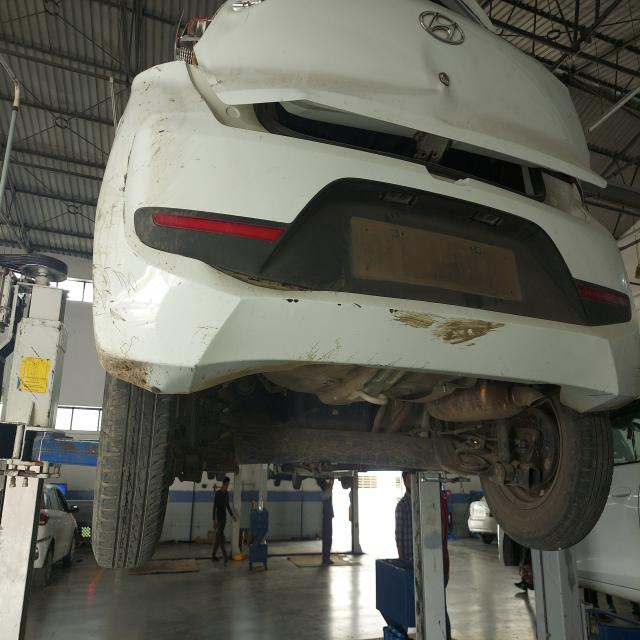damage: (229, 0, 594, 179), (93, 59, 181, 387), (258, 284, 520, 359)
